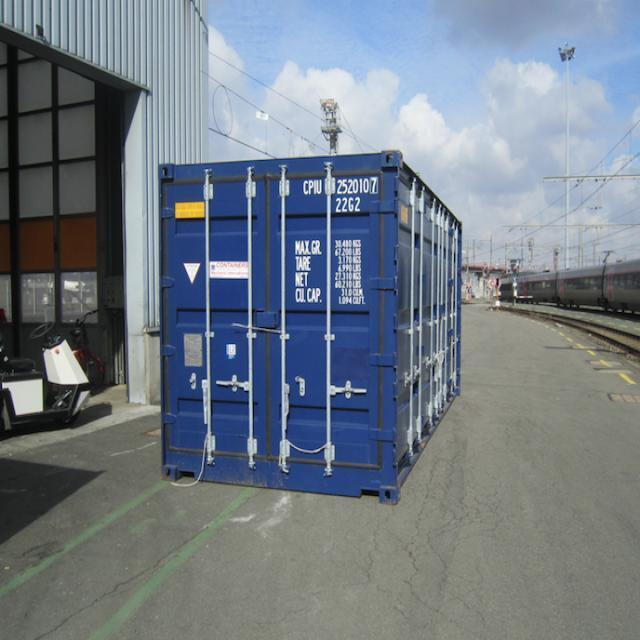ISO: (336, 198, 362, 214)
container_number: (298, 178, 387, 197)
